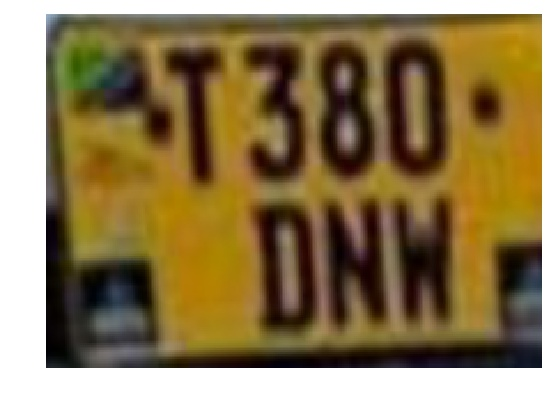T: (157, 37, 241, 190)
